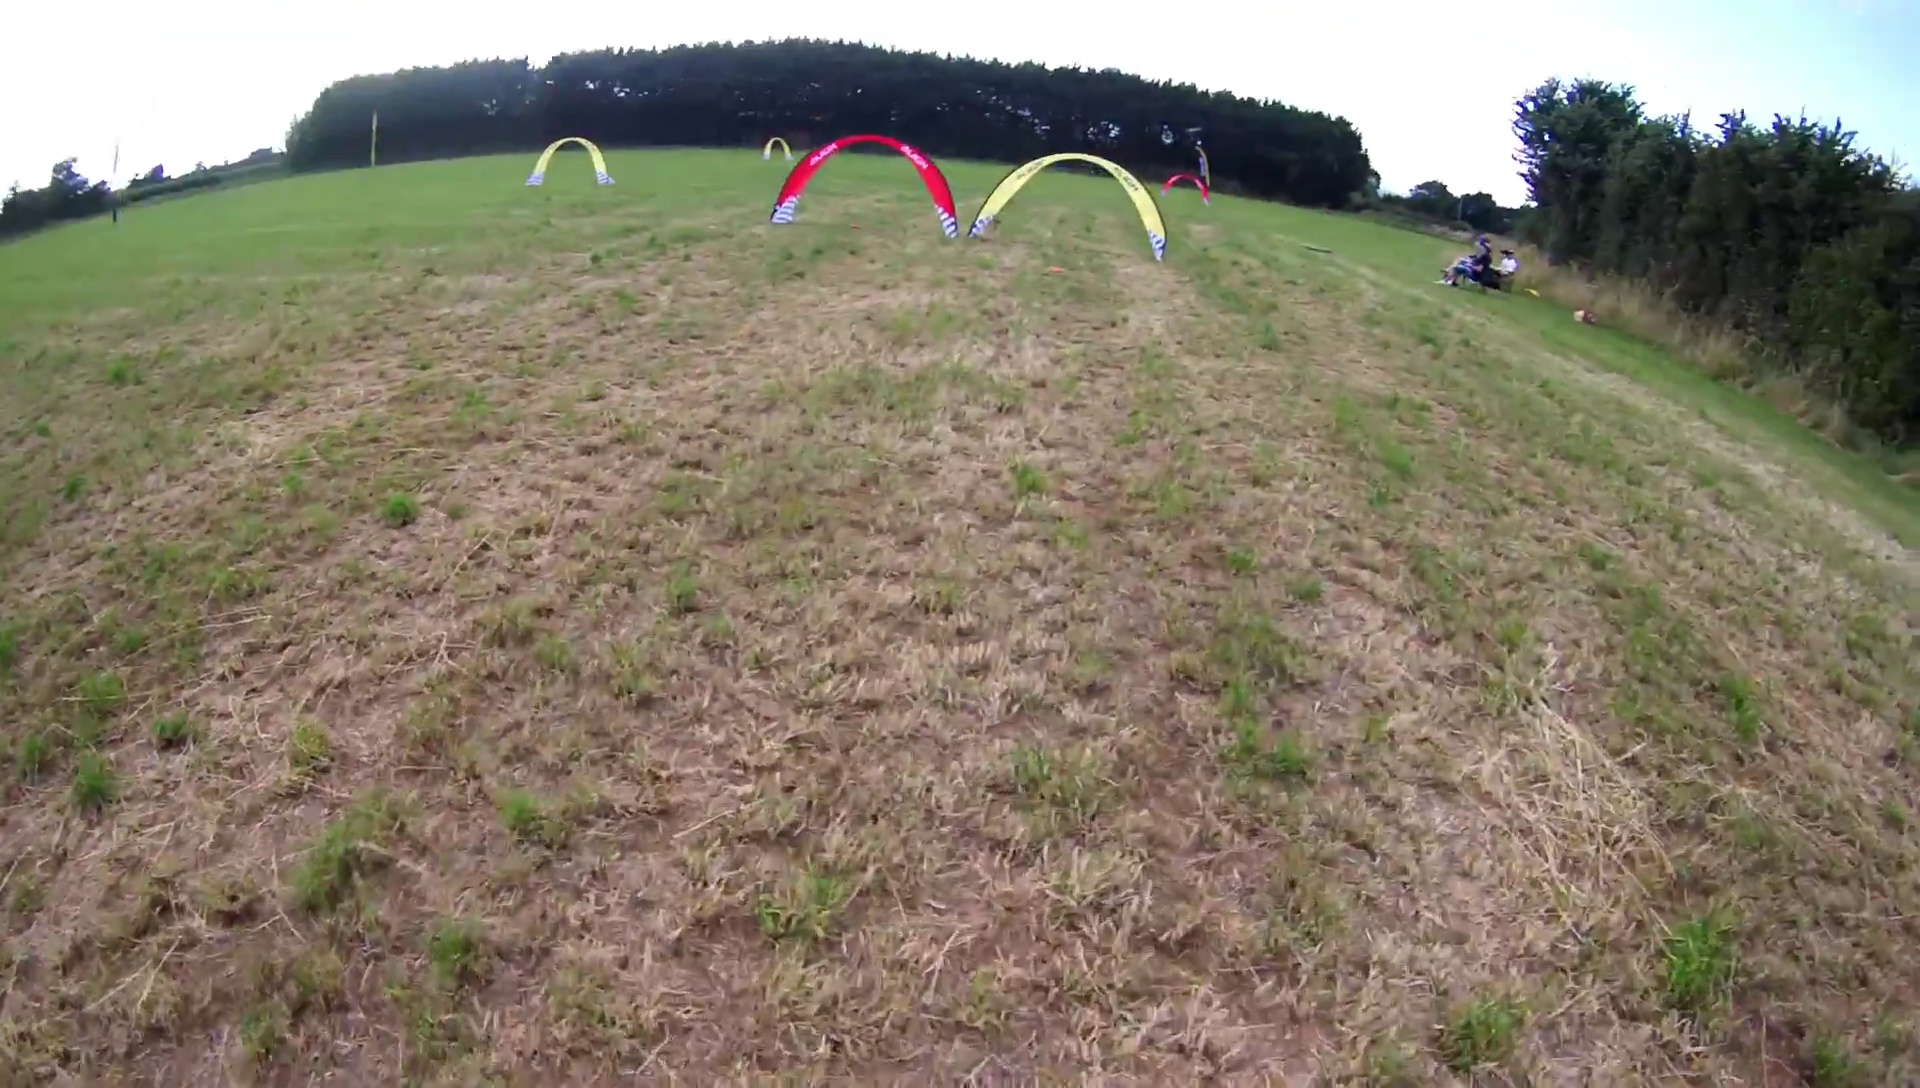gate: (965, 150, 1170, 260), (770, 133, 960, 239), (526, 137, 617, 189), (1160, 171, 1212, 208), (762, 136, 793, 162)
